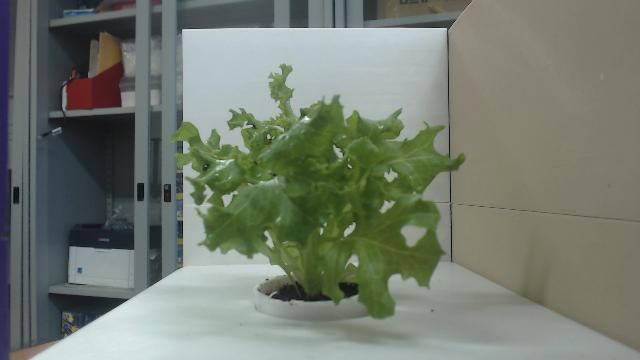Harvest Stage: (168, 59, 468, 322)
